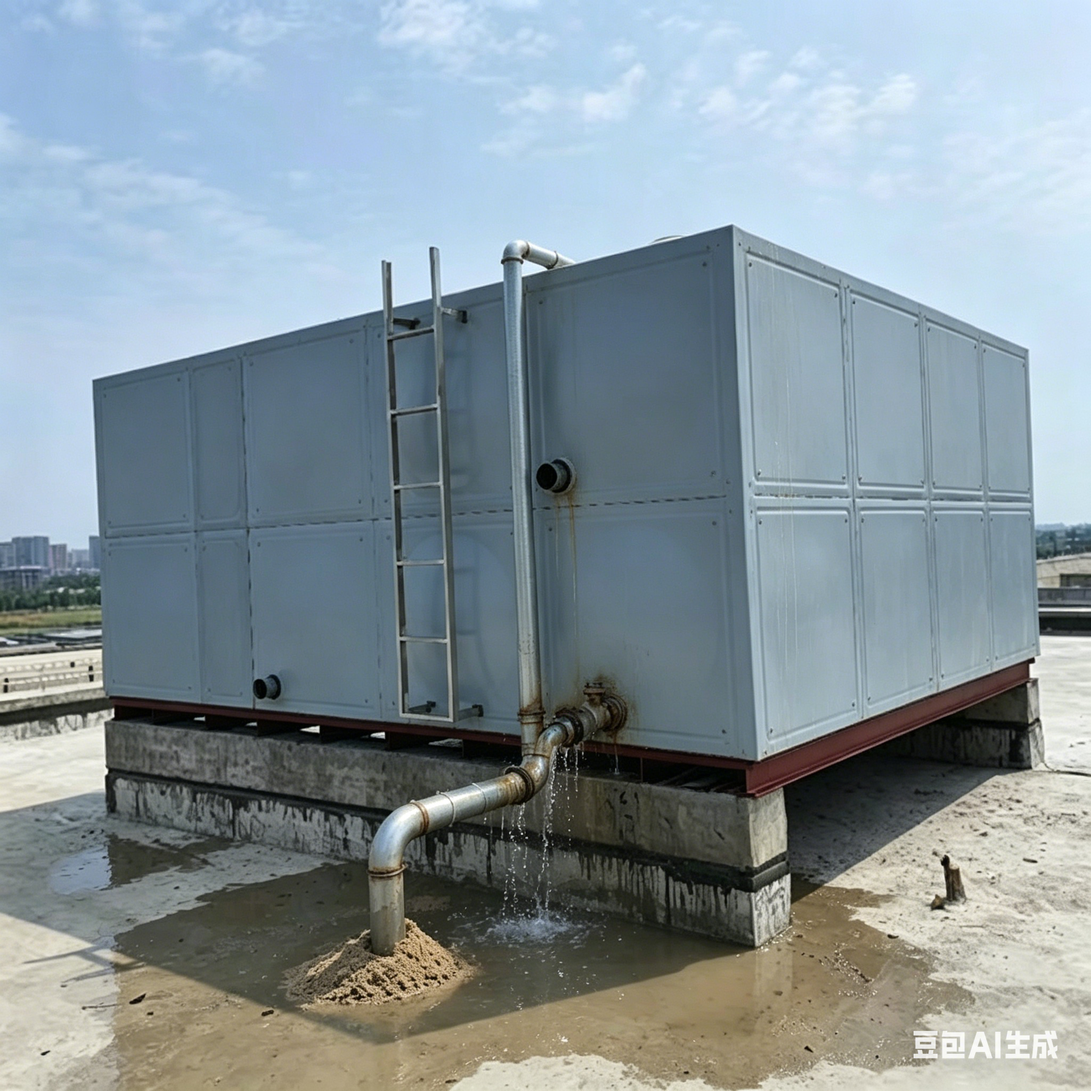Leakage: (622, 886, 955, 1083), (124, 927, 479, 1091), (489, 702, 612, 1053), (211, 872, 459, 911), (30, 820, 166, 886)
